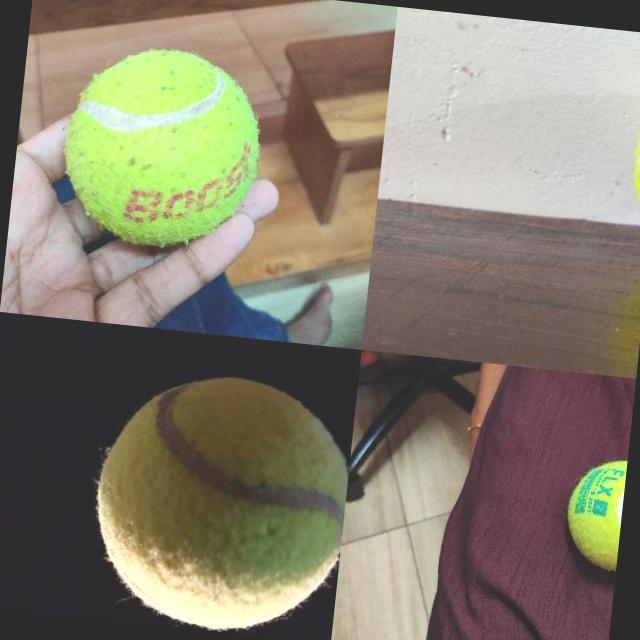tennis-ball: (82, 360, 356, 640), (55, 38, 268, 255), (561, 454, 626, 570)
